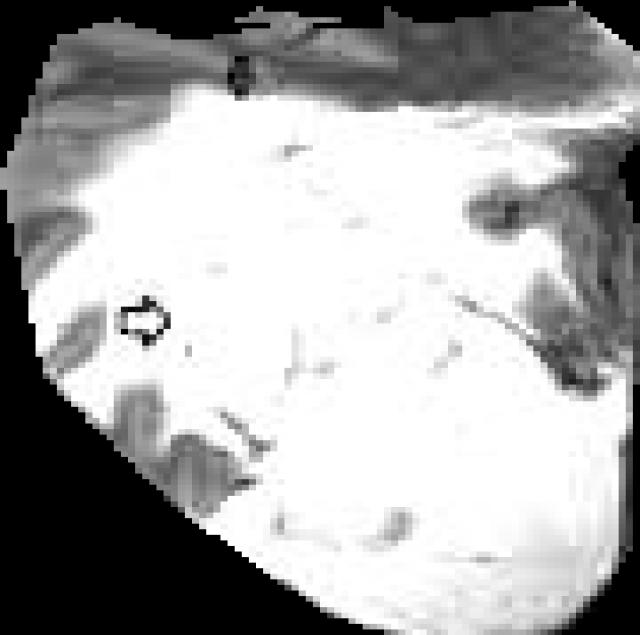tumor_less_chance: (0, 1, 640, 635)
